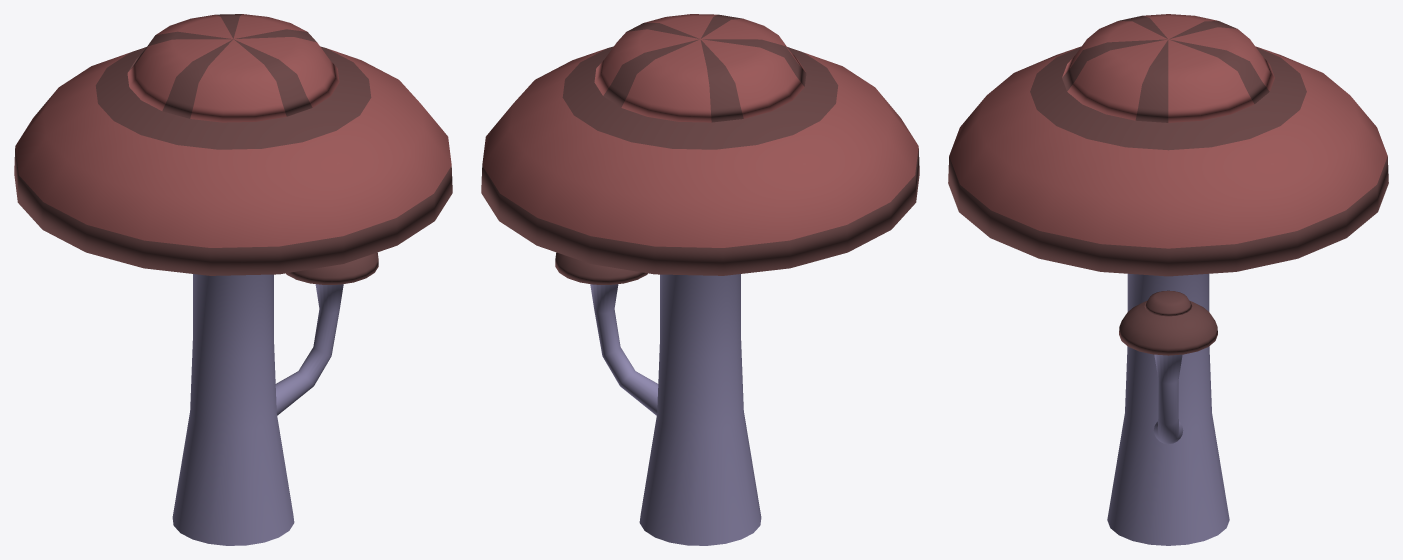
Rendered from mushroom deco 2.fbx.
The picture shows the model from 3 angles, left to right: view 1: azimuth 30°, elevation 25°; view 2: azimuth 150°, elevation 25°; view 3: azimuth 270°, elevation 25°; orthographic projection.
Parts seen in each view (by area): view 1: mushroom2; view 2: mushroom2; view 3: mushroom2.
Part boxes in pixels (<box>): mushroom2: <box>14,14,452,545</box>; mushroom2: <box>481,14,919,545</box>; mushroom2: <box>948,14,1388,545</box>.
Size of the model in its own units: 6.12 by 7.36 by 6.12.
